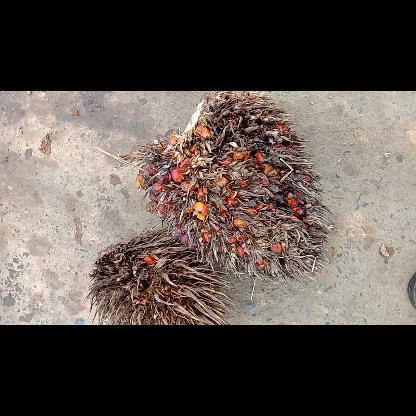Janjang kosong: (84, 224, 238, 324)
Terlalu masak: (118, 91, 332, 283)
